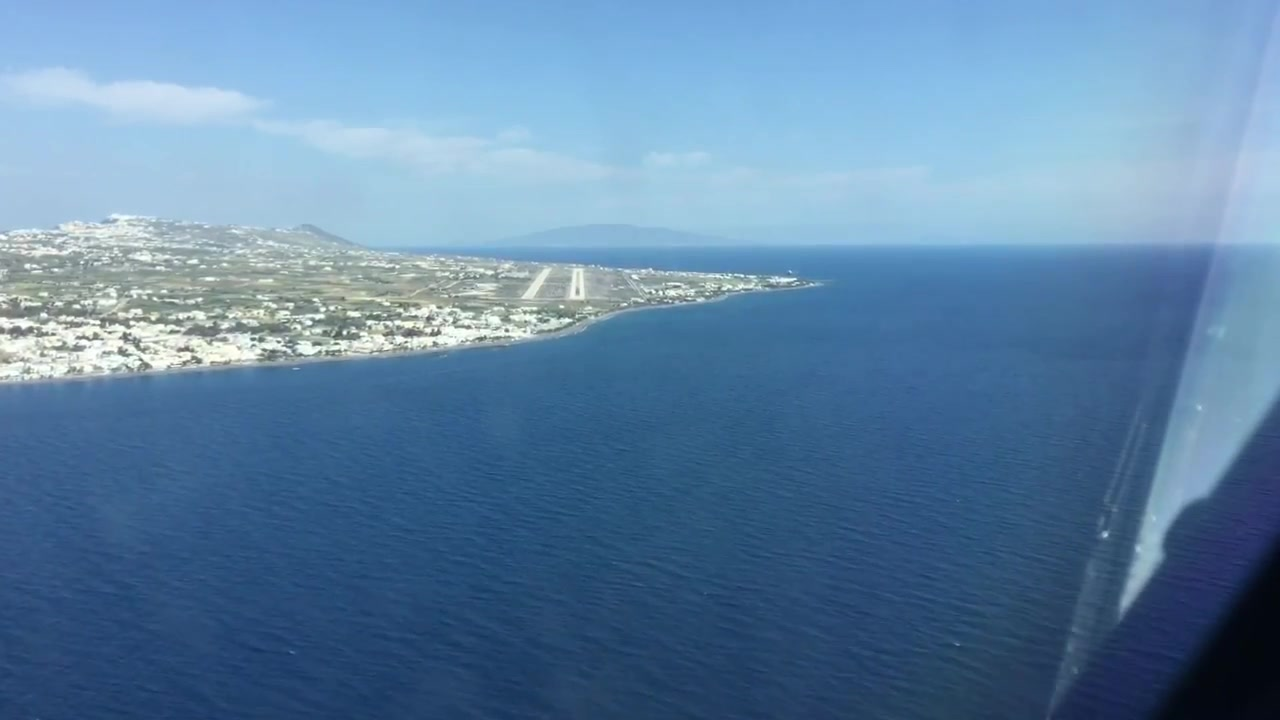runway: (519, 267, 552, 300), (567, 268, 585, 301)
